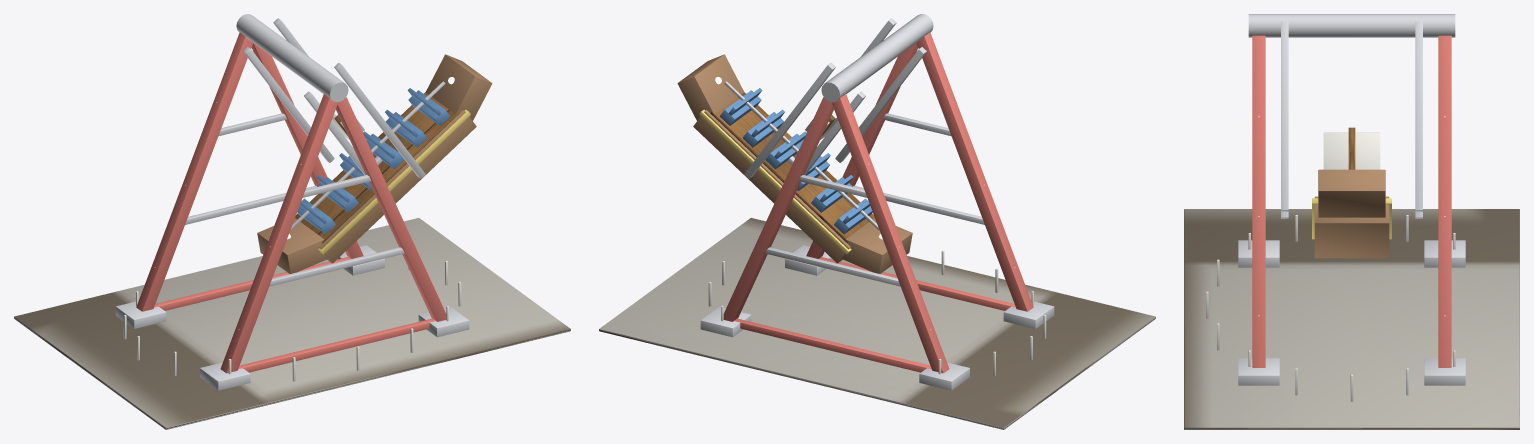
Rendered from th32_piratenschiff.glb.
The picture shows the model from 3 angles, left to right: view 1: azimuth 30°, elevation 25°; view 2: azimuth 150°, elevation 25°; view 3: azimuth 270°, elevation 25°; orthographic projection. The views are drawn at different scales.
Parts seen in each view (by area): view 1: Cube, Cube.001, Cube.008, Cube.002, Cube.021, Cylinder, Cube.022, Cube.024, Cube.003, Cube.023, Cube.009, Cube.018 (+13 smaller); view 2: Cube, Cube.008, Cube.001, Cube.009, Cube.021, Cylinder, Cube.022, Cube.024, Cube.010, Cube.023, Cube.002, Cube.019 (+13 smaller); view 3: Cube, Cylinder, Cube.002, Cube.009, Cube.021, Cube.024, Cube.040, Cube.018, Cube.019, Cube.007, Cube.014, Cube.006 (+2 smaller).
Part boxes in pixels (x1,y1,x2,y2): Cube: [14, 218, 570, 429]; Cube.001: [220, 94, 337, 373]; Cube.008: [136, 32, 253, 311]; Cube.002: [336, 97, 446, 321]; Cube.021: [296, 92, 476, 263]; Cylinder: [236, 14, 348, 102]; Cube.022: [295, 92, 459, 243]; Cube.024: [425, 54, 492, 120]; Cube.003: [238, 318, 435, 372]; Cube.023: [257, 218, 327, 273]; Cube.009: [251, 43, 363, 258]; Cube.018: [334, 63, 425, 178]; Cube: [599, 218, 1155, 429]; Cube.008: [831, 94, 949, 373]; Cube.001: [916, 32, 1033, 311]; Cube.009: [723, 97, 833, 321]; Cube.021: [693, 92, 873, 263]; Cylinder: [821, 14, 933, 102]; Cube.022: [710, 92, 874, 243]; Cube.024: [677, 54, 744, 120]; Cube.010: [734, 318, 931, 372]; Cube.023: [842, 218, 912, 273]; Cube.002: [806, 43, 918, 258]; Cube.019: [744, 63, 835, 178]; Cube: [1184, 209, 1519, 429]; Cylinder: [1248, 14, 1455, 37]; Cube.002: [1252, 35, 1265, 367]; Cube.009: [1438, 35, 1451, 367]; Cube.021: [1314, 196, 1389, 258]; Cube.024: [1318, 169, 1385, 217]; Cube.040: [1323, 132, 1380, 169]; Cube.018: [1281, 21, 1288, 211]; Cube.019: [1415, 21, 1422, 211]; Cube.007: [1238, 358, 1279, 385]; Cube.014: [1424, 358, 1465, 385]; Cube.006: [1238, 240, 1279, 267].
Bounding box in the file's own units: 20 × 13.18 × 13.
Materials: 11 (2 with a texture image).
